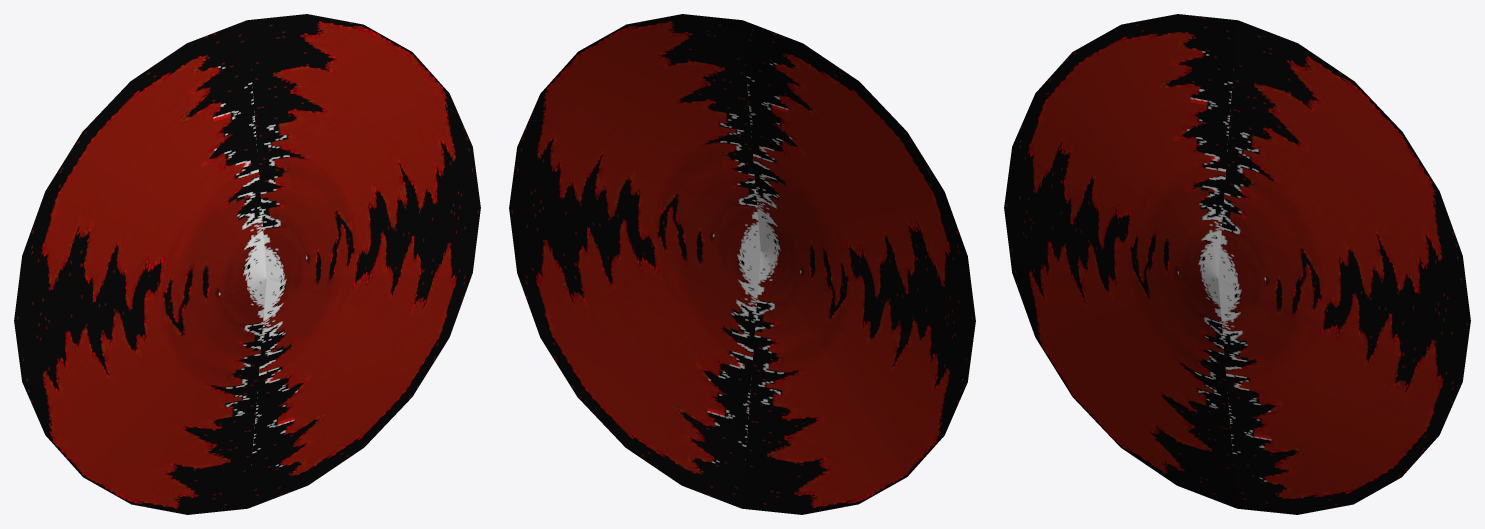
Rendered from gyro_vint.FBX.
3 renders of one model, left to right at view 1: azimuth 30°, elevation 25°; view 2: azimuth 150°, elevation 25°; view 3: azimuth 330°, elevation 25°, orthographic.
Visible parts, largest first — view 1: Mesh_0038; view 2: Mesh_0038; view 3: Mesh_0038.
Part boxes in pixels (<box>): Mesh_0038: <box>14,14,480,514</box>; Mesh_0038: <box>509,14,975,514</box>; Mesh_0038: <box>1004,14,1470,514</box>.
Bounding box in the file's own units: 235 × 235 × 17.35.
